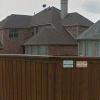Chimney: (55, 0, 71, 18)
